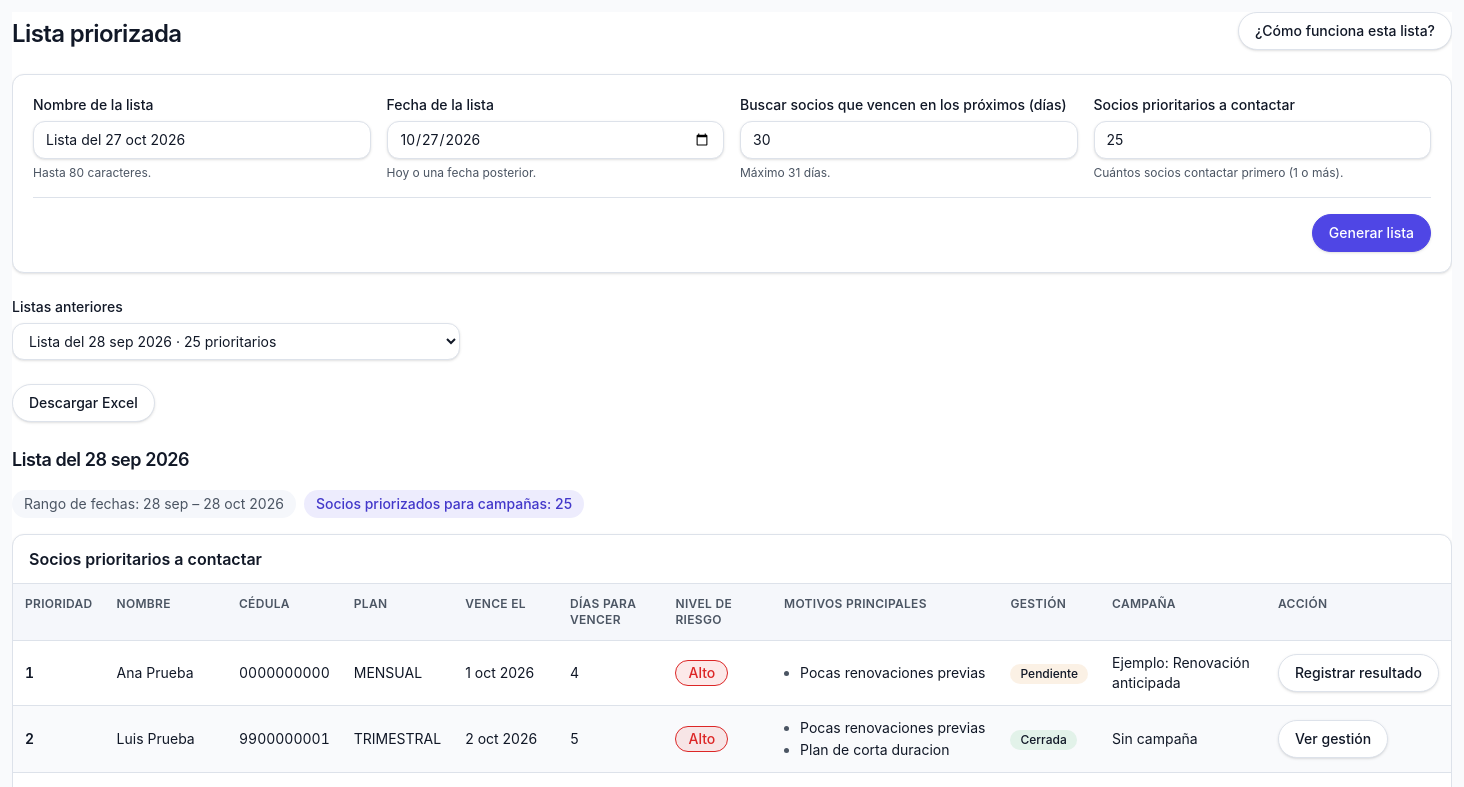
HistorialListas › elegir una lista que falla → ErrorAlert y se conserva la lista mostrada
Expected: the text "Ana Prueba" is shown, top-left (105, 640), bottom-right (227, 706)
Select "Lista del 31 ago 2026 · 10 prioritarios" in the dropdown labelled "Listas anteriores" at (236, 342), box top-left (12, 323), bottom-right (460, 360)
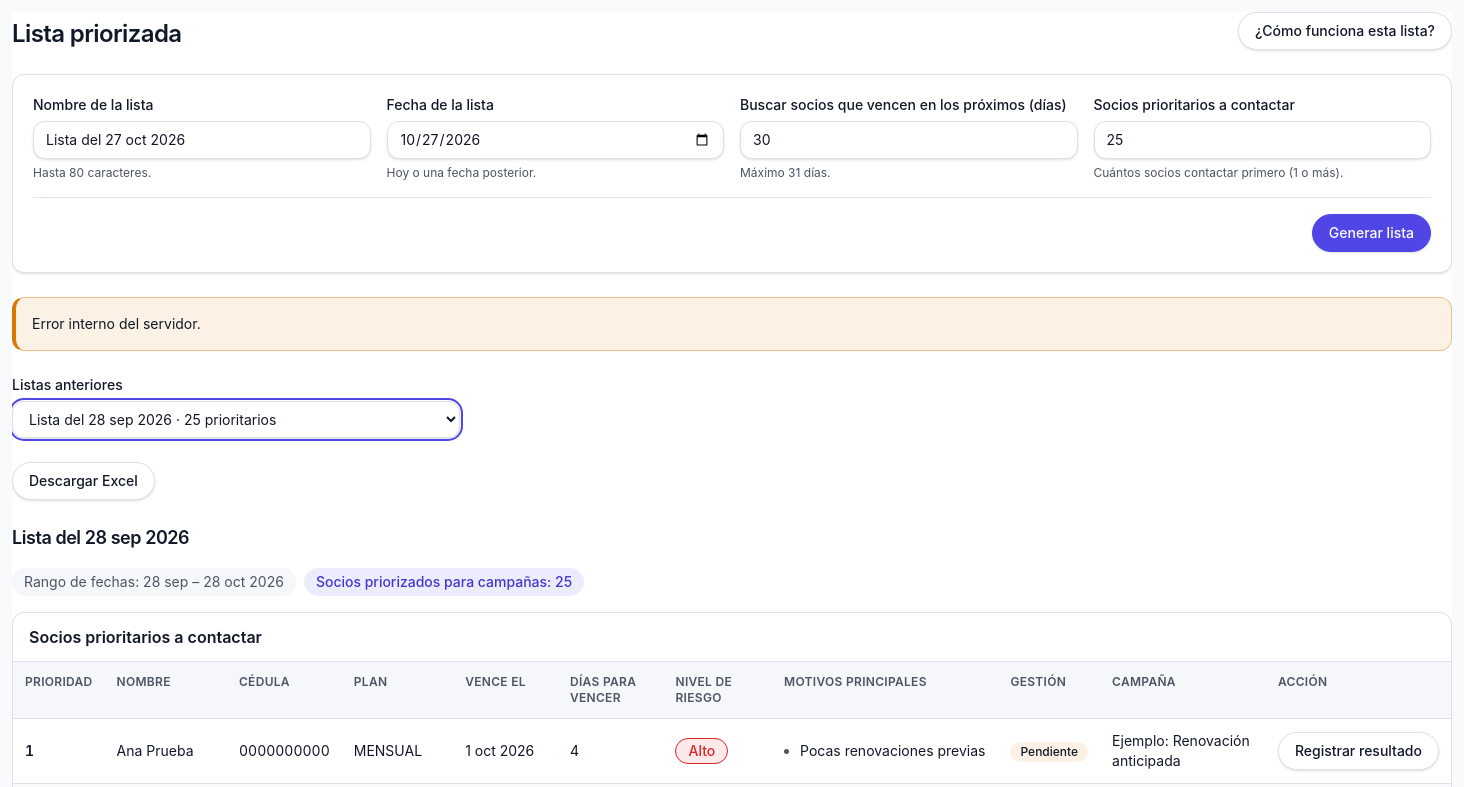
Expected: the text "Ana Prueba" is shown, top-left (105, 718), bottom-right (227, 784)
Expected: the message reads "Error interno del servidor.", top-left (32, 315), bottom-right (201, 332)
